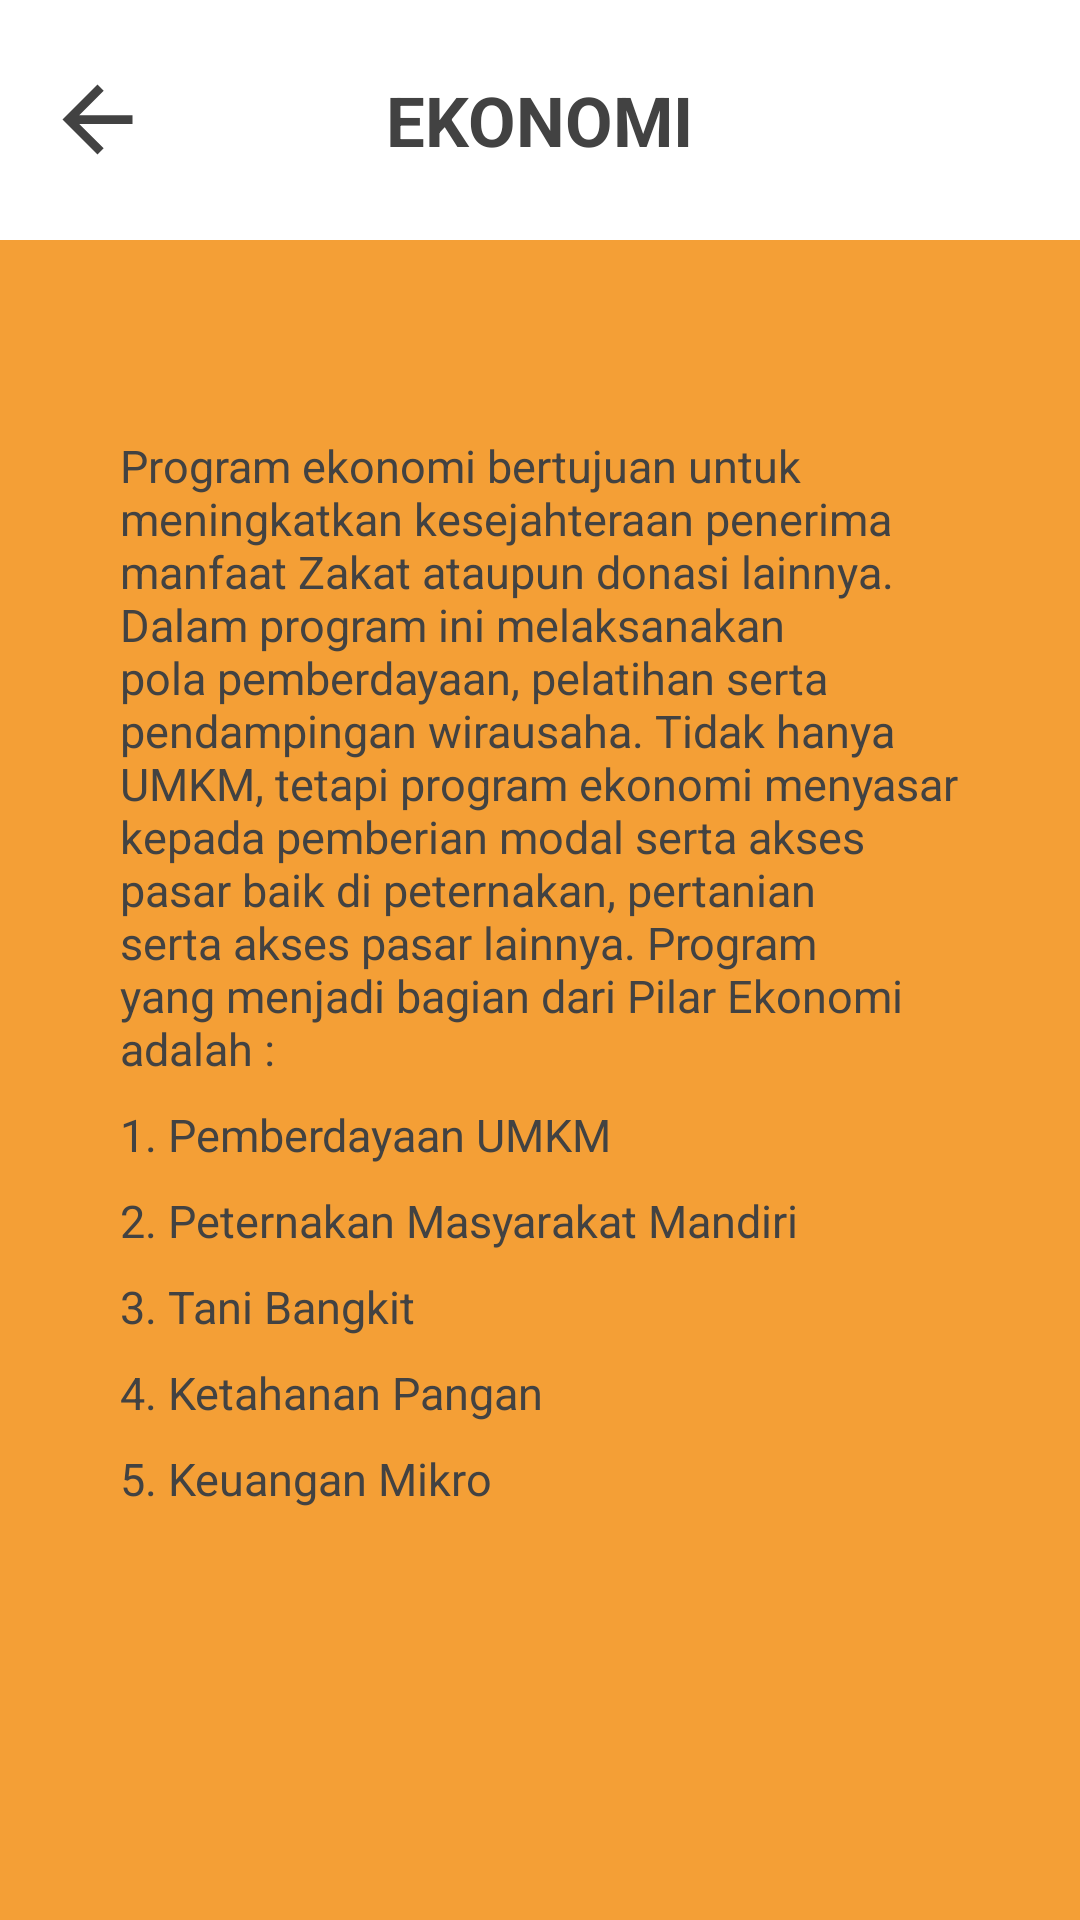

Where icons sit on this 1080*1920 app screen, as region(x1, y1, x2, y2):
kembaliicondark: region(62, 84, 133, 155)
